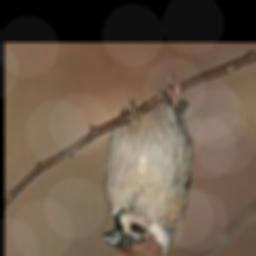Sparrow: (100, 76, 192, 256)
